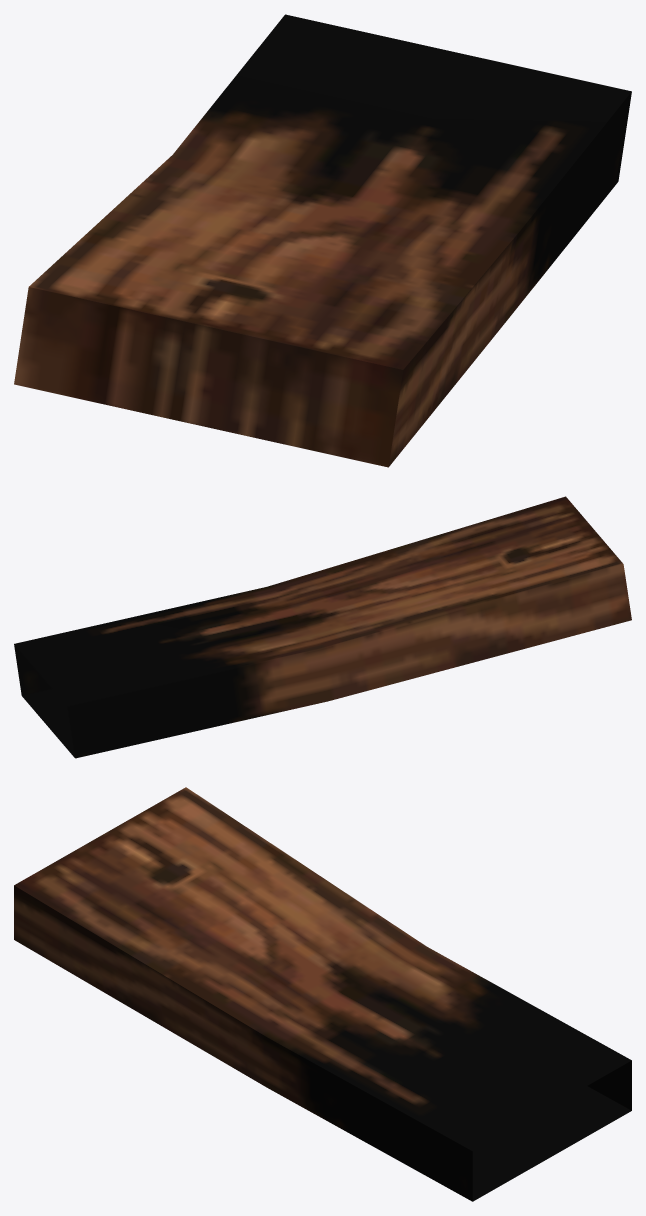
File: ANIMATEDINSTANCES_BOARD_FALL4__BA.fbx
3 views of the same model, one above another, from view 1: azimuth 30°, elevation 25°; view 2: azimuth 150°, elevation 25°; view 3: azimuth 270°, elevation 25° (orthographic). The views are drawn at different scales.
Visible parts, largest first — view 1: ANIMATEDINSTANCES_BOARD_FALL4__BA; view 2: ANIMATEDINSTANCES_BOARD_FALL4__BA; view 3: ANIMATEDINSTANCES_BOARD_FALL4__BA.
Boxes of the visible parts, x1,y1,x2,y2 form: ANIMATEDINSTANCES_BOARD_FALL4__BA: (14,14,631,467); ANIMATEDINSTANCES_BOARD_FALL4__BA: (14,496,631,758); ANIMATEDINSTANCES_BOARD_FALL4__BA: (14,787,631,1201).
Bounding box in the file's own units: 8811 × 2603 × 8880.
Materials: 1 (1 with a texture image).
